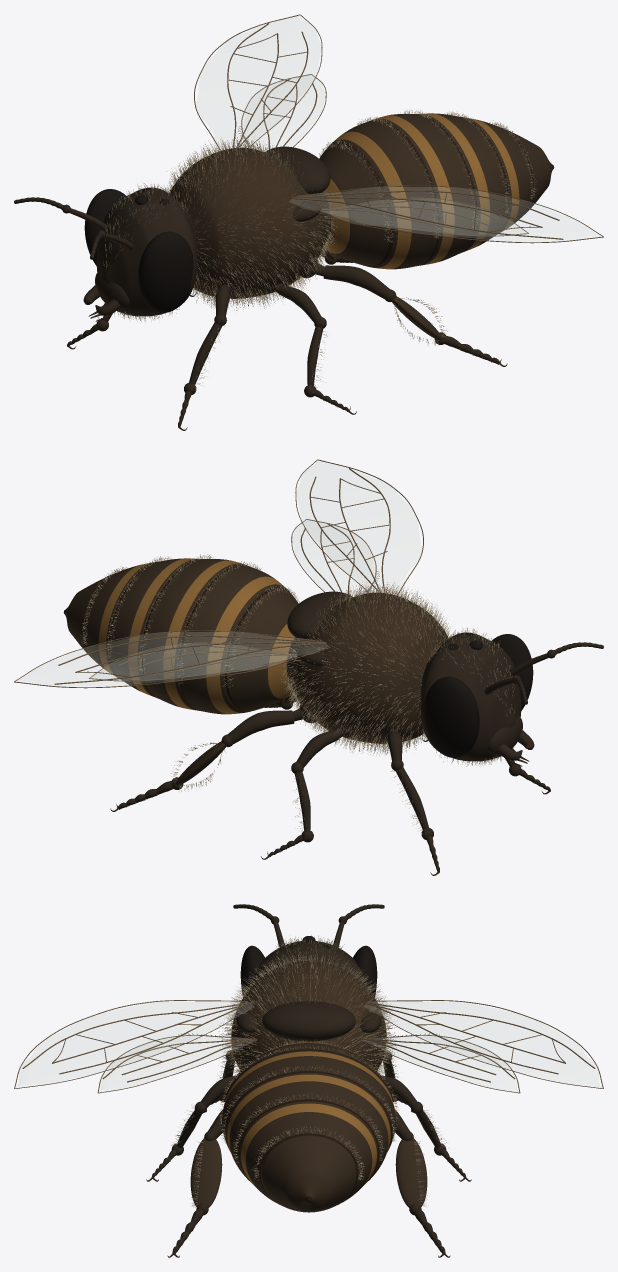
Rendered from apis-cerana-worker.glb.
3 renders of one model, top to bottom at view 1: azimuth 30°, elevation 25°; view 2: azimuth 150°, elevation 25°; view 3: azimuth 270°, elevation 25°, orthographic. The views are drawn at different scales.
Visible parts, largest first — view 1: Thorax | continuous mesosoma.001, Forewing_1_membrane.001, Forewing_-1_membrane.001, Abdomen | tergite 2.001, Thoracic plumose coat.001, Abdomen | tergite 1.001, Head | sculpted capsule.001, Abdomen | tergite 3.001, Abdomen | tergite 4.001, Compound_eye_-1.001, Hindwing_1_membrane.001, Hindwing_-1_membrane.001 (+12 smaller); view 2: Thorax | continuous mesosoma.001, Forewing_-1_membrane.001, Forewing_1_membrane.001, Abdomen | tergite 2.001, Thoracic plumose coat.001, Abdomen | tergite 1.001, Head | sculpted capsule.001, Abdomen | tergite 3.001, Abdomen | tergite 4.001, Compound_eye_1.001, Hindwing_-1_membrane.001, Hindwing_1_membrane.001 (+12 smaller); view 3: Forewing_-1_membrane.001, Forewing_1_membrane.001, Thorax | continuous mesosoma.001, Abdomen | tergite 5.001, Abdomen | tergite 6.001, Abdomen | tergite 4.001, Thoracic plumose coat.001, Abdomen | tergite 3.001, Hindwing_-1_membrane.001, Hindwing_1_membrane.001, Scutellum.001, Abdominal tomentum | fine posterior fringes.001 (+6 smaller).
Part boxes in pixels (bbox=[...]): Thorax | continuous mesosoma.001: bbox=[169, 147, 331, 298]; Forewing_1_membrane.001: bbox=[196, 15, 321, 149]; Forewing_-1_membrane.001: bbox=[289, 187, 602, 242]; Abdomen | tergite 2.001: bbox=[328, 120, 439, 269]; Thoracic plumose coat.001: bbox=[164, 137, 338, 310]; Abdomen | tergite 1.001: bbox=[319, 142, 392, 266]; Head | sculpted capsule.001: bbox=[96, 187, 197, 316]; Abdomen | tergite 3.001: bbox=[371, 114, 477, 265]; Abdomen | tergite 4.001: bbox=[418, 113, 509, 251]; Compound_eye_-1.001: bbox=[138, 231, 193, 312]; Hindwing_1_membrane.001: bbox=[243, 75, 325, 150]; Hindwing_-1_membrane.001: bbox=[322, 199, 527, 234]; Thorax | continuous mesosoma.001: bbox=[286, 592, 448, 743]; Forewing_-1_membrane.001: bbox=[296, 460, 421, 593]; Forewing_1_membrane.001: bbox=[15, 632, 327, 687]; Abdomen | tergite 2.001: bbox=[178, 565, 289, 714]; Thoracic plumose coat.001: bbox=[281, 582, 452, 755]; Abdomen | tergite 1.001: bbox=[225, 587, 298, 711]; Head | sculpted capsule.001: bbox=[420, 632, 521, 761]; Abdomen | tergite 3.001: bbox=[140, 559, 246, 710]; Abdomen | tergite 4.001: bbox=[108, 558, 198, 696]; Compound_eye_1.001: bbox=[424, 676, 479, 757]; Hindwing_-1_membrane.001: bbox=[292, 520, 374, 596]; Hindwing_1_membrane.001: bbox=[90, 644, 293, 679]; Forewing_-1_membrane.001: bbox=[15, 1001, 253, 1087]; Forewing_1_membrane.001: bbox=[364, 1001, 602, 1087]; Thorax | continuous mesosoma.001: bbox=[231, 960, 386, 1070]; Abdomen | tergite 5.001: bbox=[239, 1100, 378, 1205]; Abdomen | tergite 6.001: bbox=[260, 1135, 357, 1212]; Abdomen | tergite 4.001: bbox=[226, 1072, 391, 1181]; Thoracic plumose coat.001: bbox=[217, 948, 397, 1076]; Abdomen | tergite 3.001: bbox=[222, 1050, 395, 1151]; Hindwing_-1_membrane.001: bbox=[98, 1036, 255, 1092]; Hindwing_1_membrane.001: bbox=[362, 1036, 519, 1092]; Scutellum.001: bbox=[262, 1001, 355, 1041]; Abdominal tomentum | fine posterior fringes.001: bbox=[219, 1040, 398, 1180].
Size of the model in its own units: 0.0109 by 0.00455 by 0.0115.
